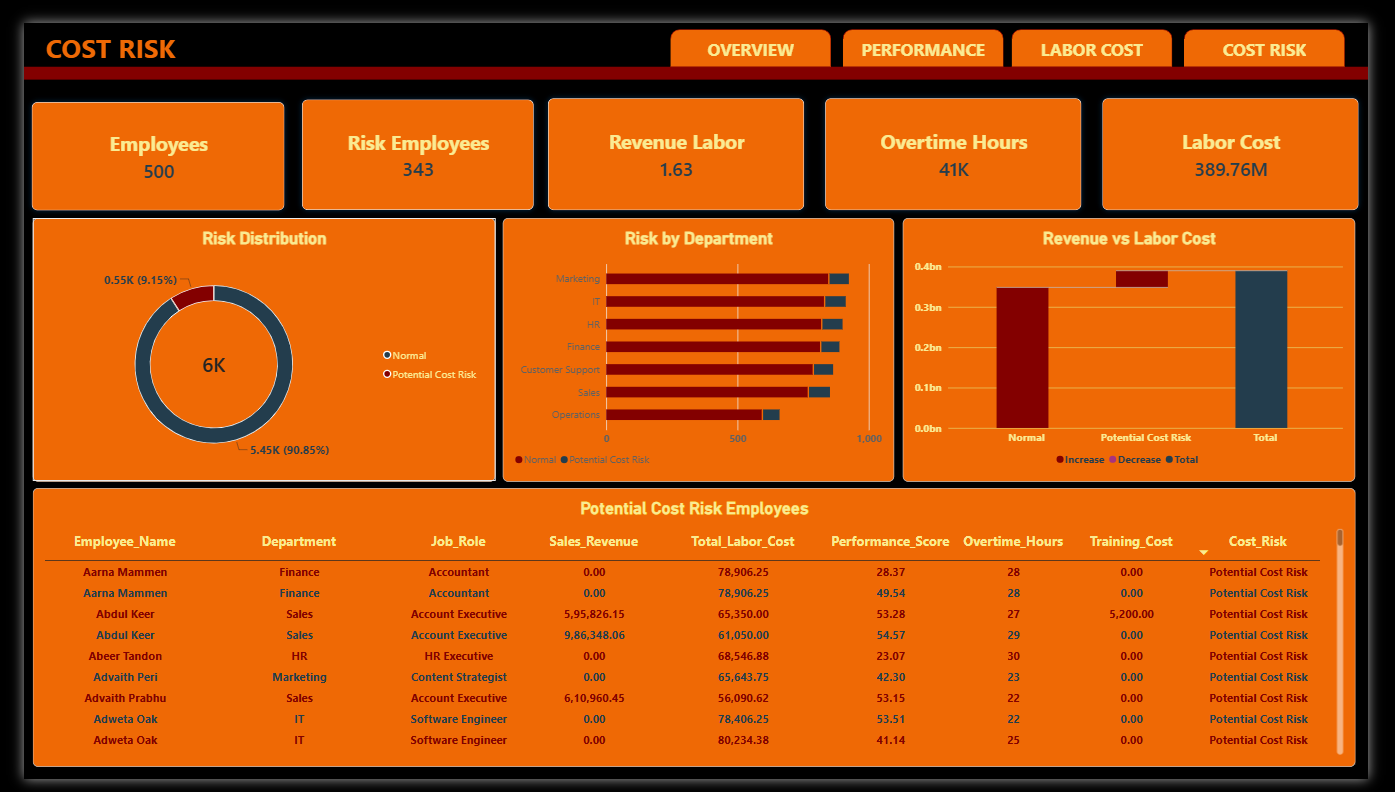

What the dashboard file says about the page in this screenshot:
{"tool":"powerbi","page":{"name":"COST RISK","canvas":[1920,1080],"ordinal":3},"visuals":[{"type":"textbox","box":[0,0,1920.1,68.8],"z":0},{"type":"textbox","box":[0,63.3,1920.1,18.1],"z":1000},{"type":"actionButton","box":[922.9,9,229.8,54.3],"z":2000},{"type":"actionButton","box":[1169,9,229.8,54.3],"z":3000},{"type":"actionButton","box":[1411.5,9,229.8,54.3],"z":4000},{"type":"actionButton","box":[1657.6,9,229.8,54.3],"z":5000},{"type":"cardVisual","fields":{"Data":["Count(workforce_analytics workforce_analysis_view.Employee_ID)"],"Rows":["workforce_analytics workforce_analysis_view.Cost_Risk"]},"box":[351.1,97.7,387.3,181],"z":6000},{"type":"cardVisual","fields":{"Data":["Avg(workforce_analytics workforce_analysis_view.Revenue_Labor_Ratio)","Sum(workforce_analytics workforce_analysis_view.Overtime_Hours)","Sum(workforce_analytics workforce_analysis_view.Total_Labor_Cost)"]},"box":[738.3,95.9,1181.7,182.8],"z":7000},{"type":"cardVisual","fields":{"Data":["Count(workforce_analytics workforce_analysis_view.Employee_ID)"]},"box":[0,101.3,383.6,177.3],"z":8000},{"type":"donutChart","title":"Risk Distribution","fields":{"Category":["workforce_analytics workforce_analysis_view.Cost_Risk"],"Y":["CountNonNull(workforce_analytics workforce_analysis_view.Employee_ID)"]},"box":[18.1,278.7,593.6,396.3],"z":9000},{"type":"barChart","title":"Risk by Department","fields":{"Category":["workforce_analytics workforce_analysis_view.Department"],"Series":["workforce_analytics workforce_analysis_view.Cost_Risk"],"Y":["CountNonNull(workforce_analytics workforce_analysis_view.Employee_ID)"]},"box":[626.1,278.7,602.6,396.3],"z":10000},{"type":"waterfallChart","title":"Revenue vs Labor Cost","fields":{"Category":["workforce_analytics workforce_analysis_view.Cost_Risk"],"Y":["Sum(workforce_analytics workforce_analysis_view.Total_Labor_Cost)"]},"box":[1245,278.7,658.7,396.3],"z":11000},{"type":"tableEx","title":"Potential Cost Risk Employees","fields":{"Values":["workforce_analytics workforce_analysis_view.Employee_Name","workforce_analytics workforce_analysis_view.Department","workforce_analytics workforce_analysis_view.Job_Role","workforce_analytics workforce_analysis_view.Sales_Revenue","workforce_analytics workforce_analysis_view.Total_Labor_Cost","workforce_analytics workforce_analysis_view.Performance_Score","workforce_analytics workforce_analysis_view.Overtime_Hours","workforce_analytics workforce_analysis_view.Training_Cost","workforce_analytics workforce_analysis_view.Cost_Risk"]},"box":[18.4,685.7,1885.7,379.6],"z":12000}]}

Visuals, with their boxes in screenshot pixels (x1, y1, x2, y2), scaled from the page's 1920x1080 canvas onto the 1395x792 screenshot:
textbox: locate(0, 0, 1394, 50)
textbox: locate(0, 46, 1394, 60)
actionButton: locate(671, 7, 838, 46)
actionButton: locate(849, 7, 1016, 46)
actionButton: locate(1026, 7, 1193, 46)
actionButton: locate(1204, 7, 1371, 46)
cardVisual - Count(workforce_analytics workforce_analysis_view.Employee_ID) x workforce_analytics workforce_analysis_view.Cost_Risk: locate(255, 72, 536, 204)
cardVisual - Avg(workforce_analytics workforce_analysis_view.Revenue_Labor_Ratio) x Sum(workforce_analytics workforce_analysis_view.Overtime_Hours): locate(536, 70, 1394, 204)
cardVisual - Count(workforce_analytics workforce_analysis_view.Employee_ID): locate(0, 74, 279, 204)
"Risk Distribution" donutChart: locate(13, 204, 444, 495)
"Risk by Department" barChart: locate(455, 204, 893, 495)
"Revenue vs Labor Cost" waterfallChart: locate(905, 204, 1383, 495)
"Potential Cost Risk Employees" tableEx: locate(13, 503, 1383, 781)
